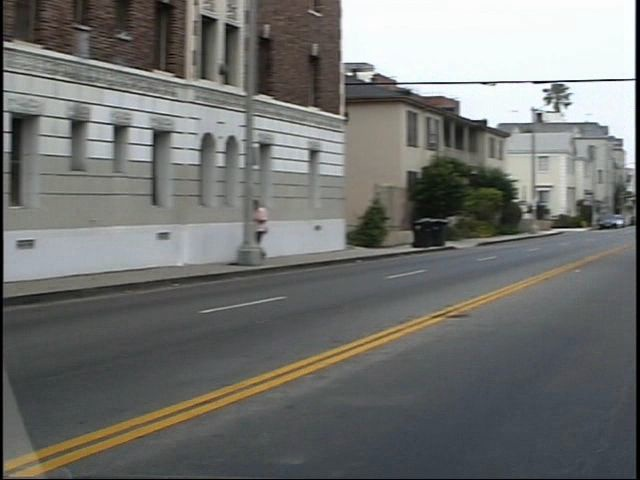person: (273, 190, 293, 263)
